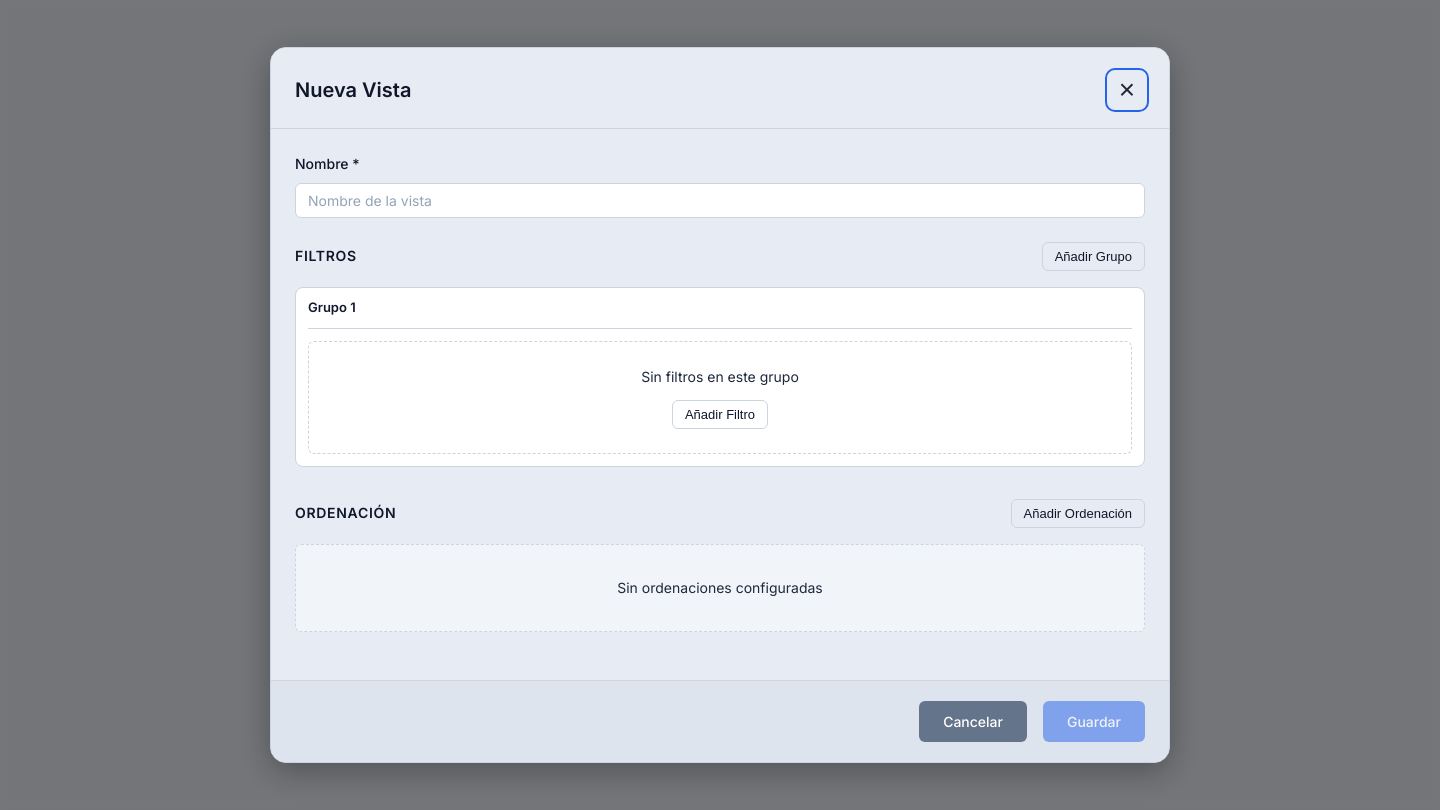
Test: GameViewModal › adds a filter group
This screenshot has width=1440, height=810.
Click the button "Añadir Grupo": (1093, 256) [1042,242,1145,271]
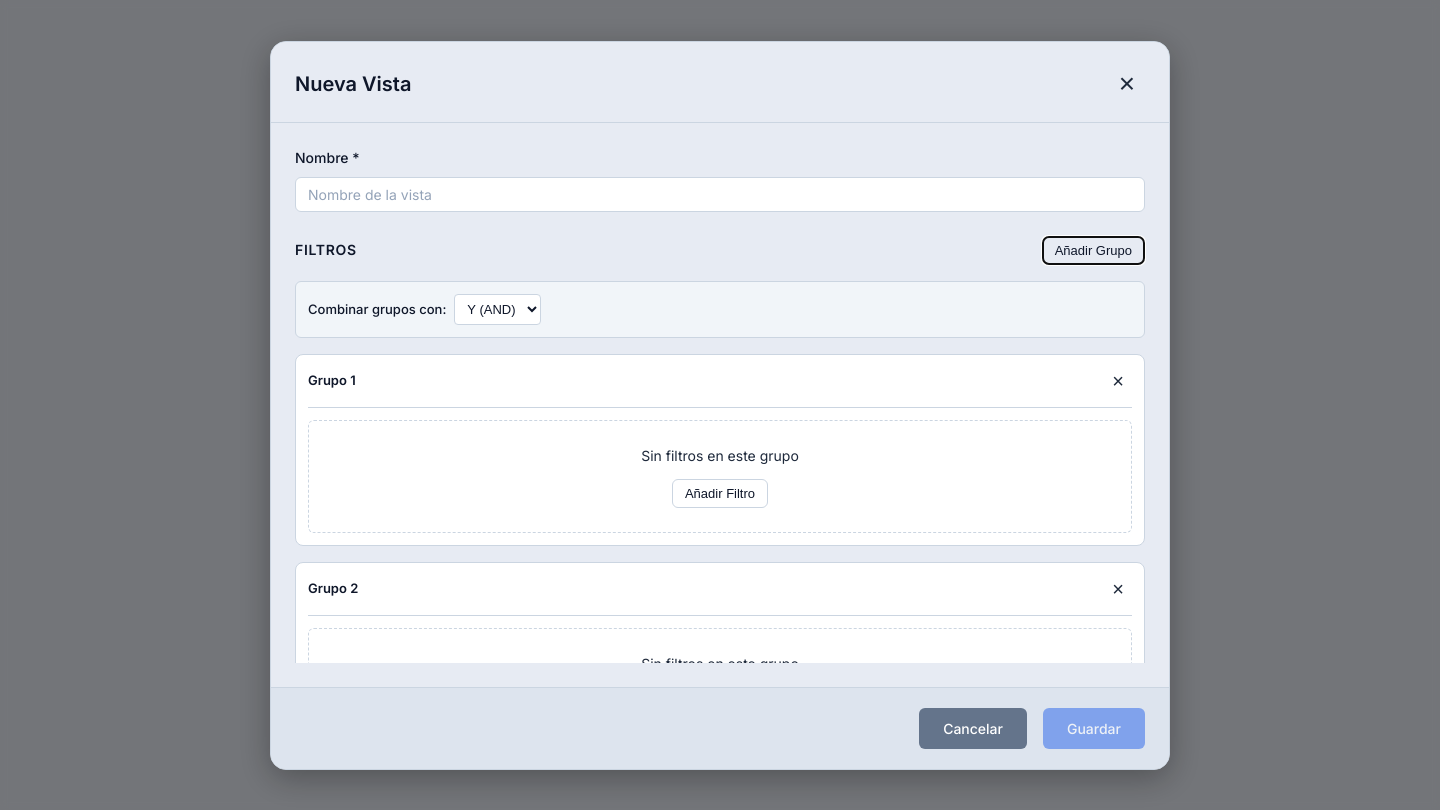
Now the text "Sin filtros en este grupo" is shown 2 times
